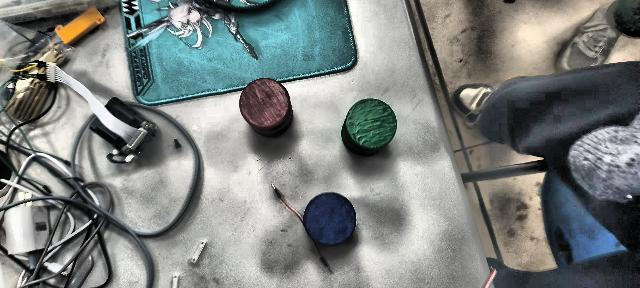blue: (304, 192, 356, 246)
green: (341, 98, 397, 156)
red: (239, 74, 293, 140)
